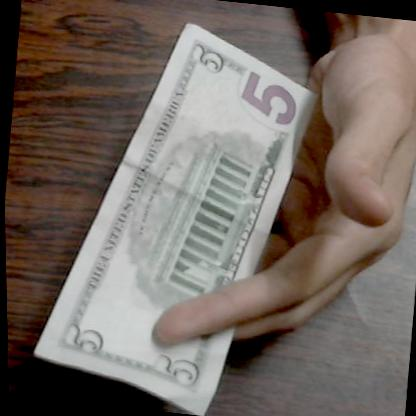five-back: (29, 0, 375, 416)
